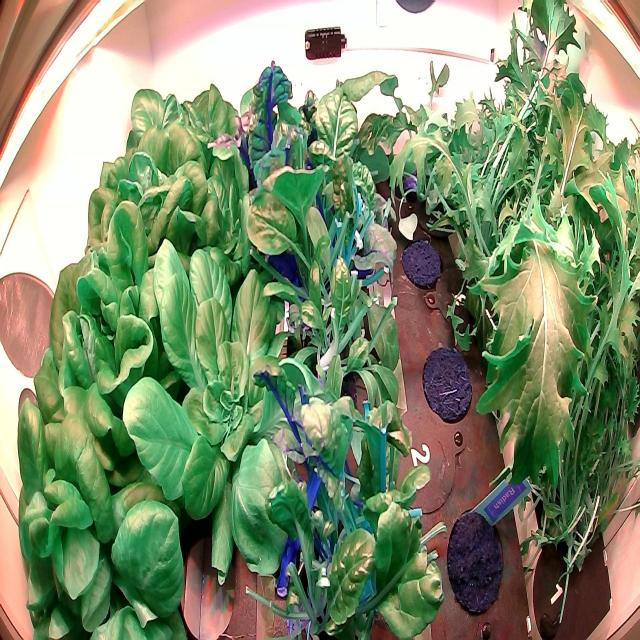Ready: (14, 384, 189, 640), (33, 199, 197, 437), (86, 74, 239, 280)
pod: (442, 501, 508, 620), (419, 341, 478, 425), (399, 230, 445, 294)
young: (121, 240, 298, 589)
